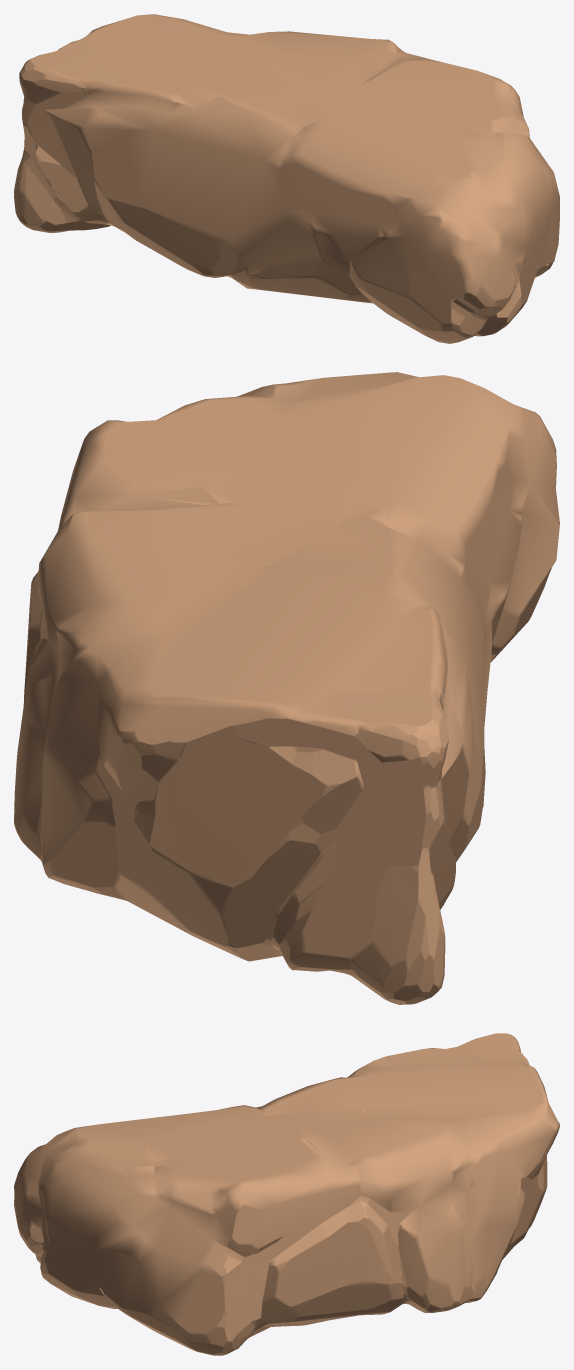
The picture shows the model from 3 angles, top to bottom: view 1: azimuth 30°, elevation 25°; view 2: azimuth 150°, elevation 25°; view 3: azimuth 270°, elevation 25°; orthographic projection. The views are drawn at different scales.
Visible parts, largest first — view 1: Mesh_80_LOD0; view 2: Mesh_80_LOD0; view 3: Mesh_80_LOD0.
Part boxes in pixels (x1,y1,x2,y2): Mesh_80_LOD0: (14,14,559,343); Mesh_80_LOD0: (14,372,559,1004); Mesh_80_LOD0: (14,1033,559,1355).
Size of what is drawn, in the model's own units: 2354 by 1085 by 3122.
